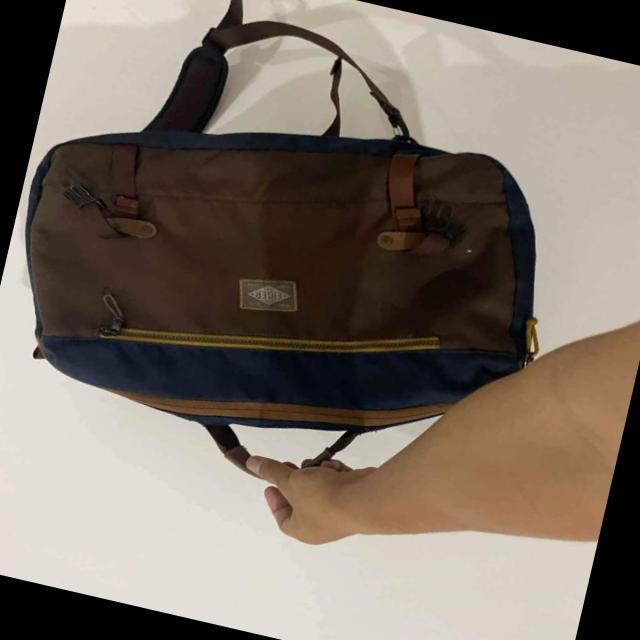bag: (27, 120, 532, 428)
